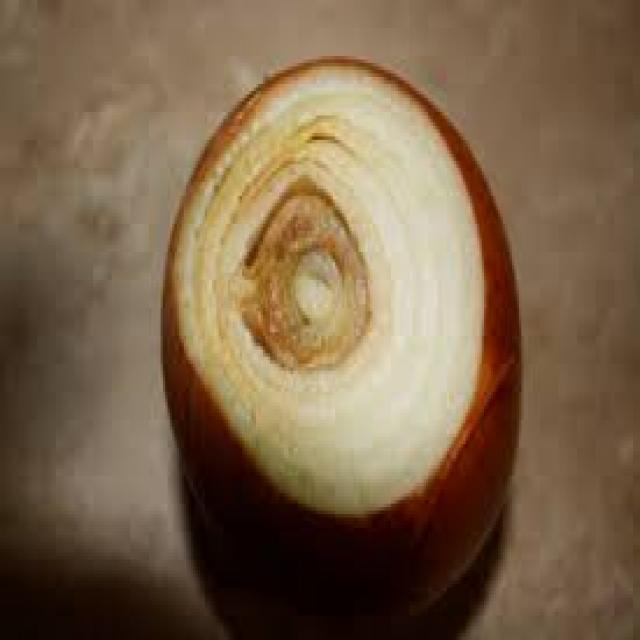Onion: (158, 55, 526, 639)
